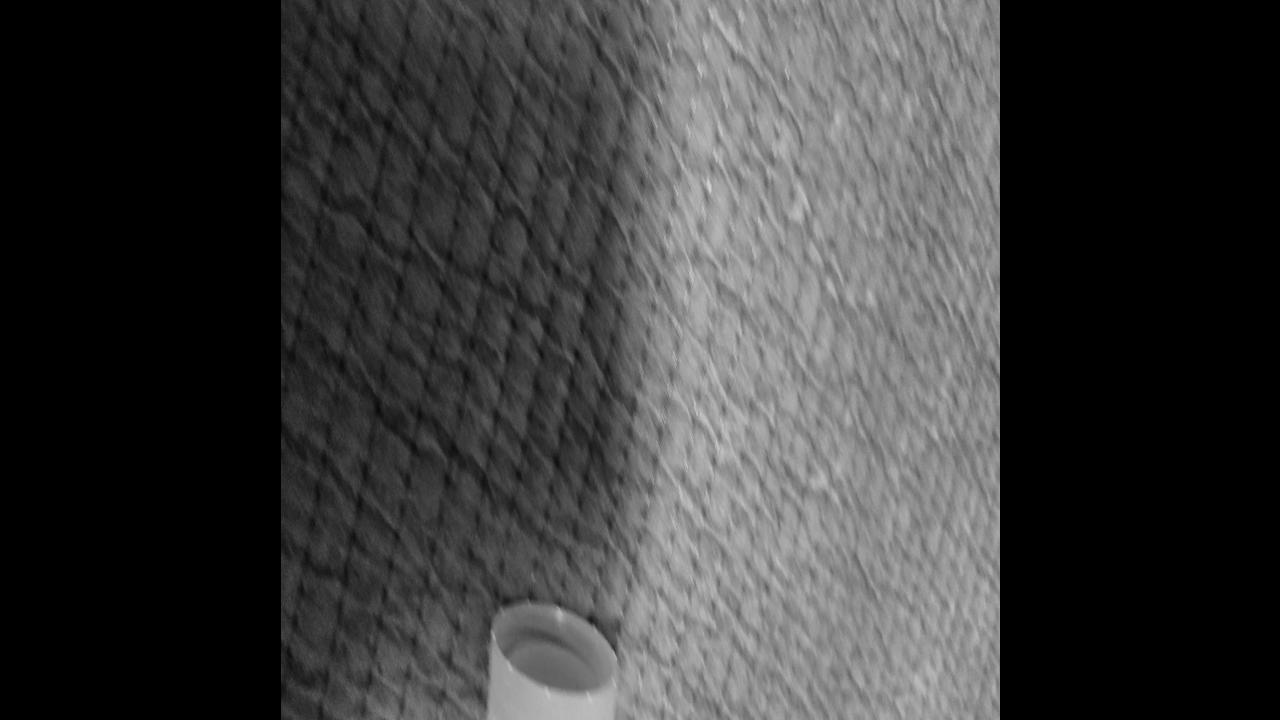bottle_cap: (484, 598, 617, 720)
